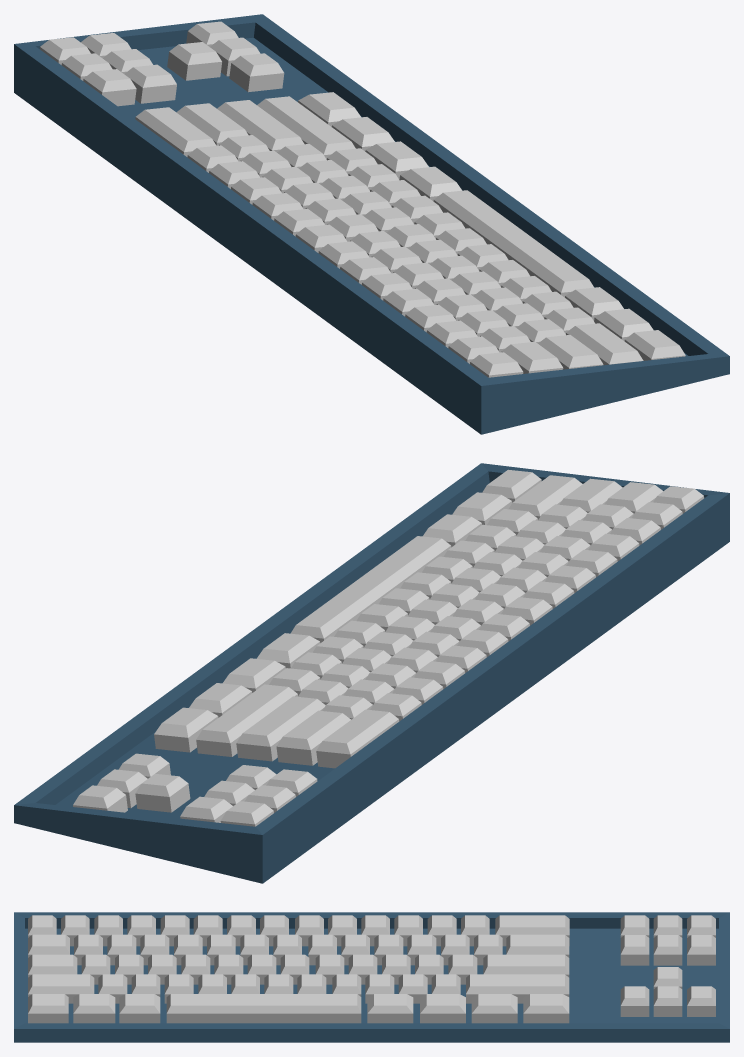
File: DebrisKeyboard.fbx
3 views of the same model, one above another, from view 1: azimuth 30°, elevation 25°; view 2: azimuth 150°, elevation 25°; view 3: azimuth 270°, elevation 25° (orthographic). The views are drawn at different scales.
Visible parts, largest first — view 1: Plane; view 2: Plane; view 3: Plane.
Boxes of the visible parts, <box> form: Plane: <box>14,14,729,434</box>; Plane: <box>14,463,729,883</box>; Plane: <box>14,912,729,1042</box>.
Size of the model in its own units: 33.98 by 7.58 by 111.
